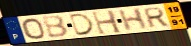B: (40, 15, 70, 39)
D: (68, 12, 96, 37)
H: (90, 9, 124, 36), (117, 7, 149, 32)
O: (20, 17, 47, 40)
R: (143, 6, 170, 30)
